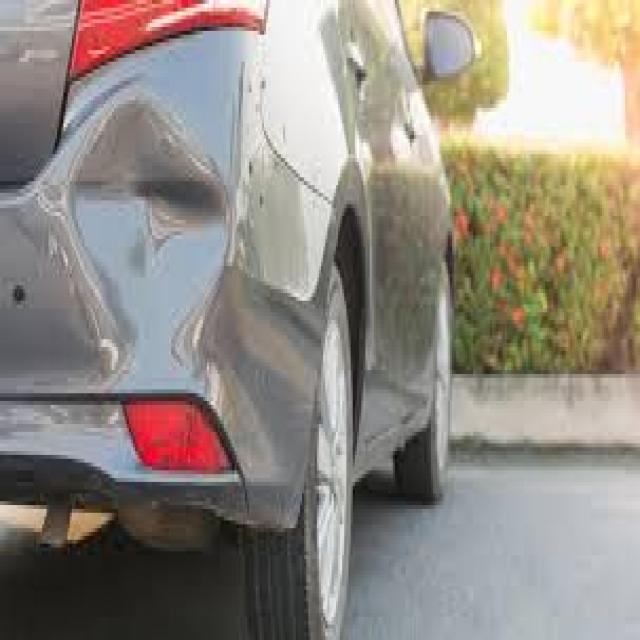minor: (54, 85, 240, 394)
